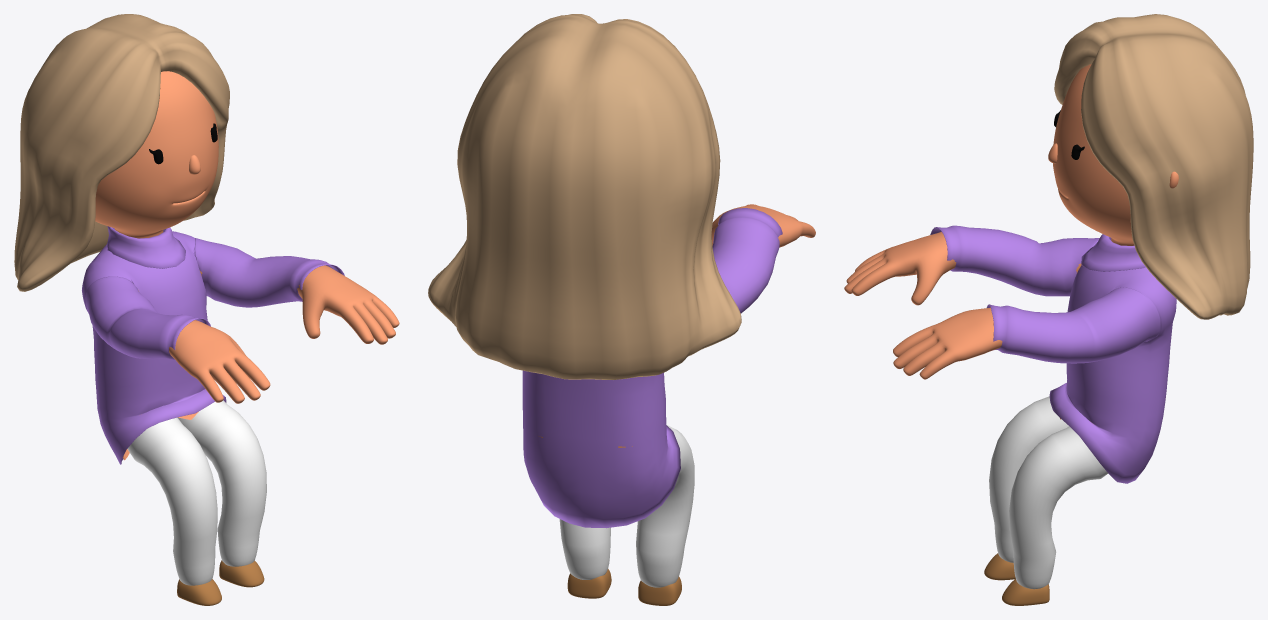
Rendered from community_manager.gltf.
3 views of the same model, side by side, from view 1: azimuth 30°, elevation 25°; view 2: azimuth 150°, elevation 25°; view 3: azimuth 270°, elevation 25° (orthographic). The views are drawn at different scales.
Visible parts, largest first — view 1: Hair_11, female_turtelneck.001, head.001, body.006, Cube.005, Cube.006, Cube.001, Cube.004; view 2: Hair_11, female_turtelneck.001, Cube.005, Cube.006, body.006, Cube.001, Cube.004; view 3: Hair_11, female_turtelneck.001, body.006, Cube.006, head.001, Cube.005, Cube.001, Cube.004.
Boxes of the visible parts, <box> form: Hair_11: <box>14,14,229,291</box>; female_turtelneck.001: <box>82,226,344,464</box>; head.001: <box>95,71,218,238</box>; body.006: <box>123,265,399,460</box>; Cube.005: <box>127,417,217,585</box>; Cube.006: <box>178,400,266,566</box>; Cube.001: <box>219,560,264,587</box>; Cube.004: <box>177,579,221,605</box>; Hair_11: <box>428,14,741,379</box>; female_turtelneck.001: <box>522,208,782,528</box>; Cube.005: <box>636,425,694,587</box>; Cube.006: <box>559,519,610,579</box>; body.006: <box>538,204,815,447</box>; Cube.001: <box>567,569,611,598</box>; Cube.004: <box>638,576,681,605</box>; Hair_11: <box>1054,14,1253,319</box>; female_turtelneck.001: <box>930,225,1176,483</box>; body.006: <box>844,232,1081,419</box>; Cube.006: <box>1009,426,1107,589</box>; head.001: <box>1053,64,1178,245</box>; Cube.005: <box>989,396,1068,562</box>; Cube.001: <box>1002,579,1049,605</box>; Cube.004: <box>984,553,1015,580</box>.
Size of the model in its own units: 5.94 by 10.59 by 7.21.
